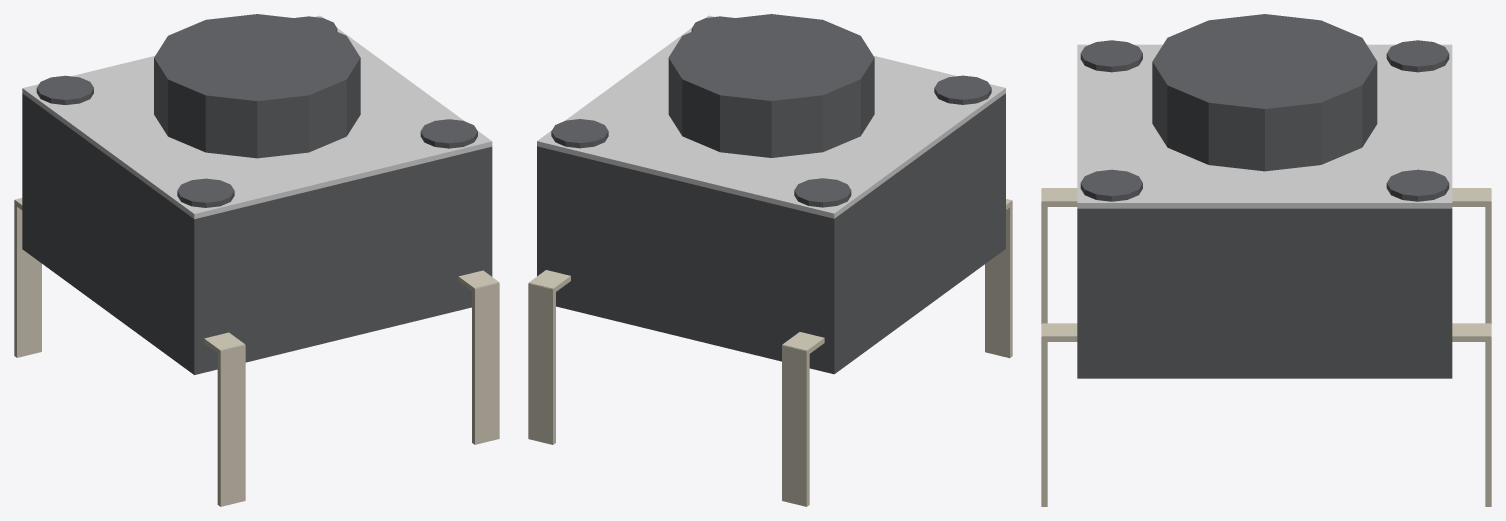
Rendered from Funky Bombul-Hillar.glb.
3 renders of one model, left to right at view 1: azimuth 30°, elevation 25°; view 2: azimuth 150°, elevation 25°; view 3: azimuth 270°, elevation 25°, orthographic. The views are drawn at different scales.
Parts seen in each view (by area): view 1: Mesh_Mesh_head_geo.001_lambert2SG.001; view 2: Mesh_Mesh_head_geo.001_lambert2SG.001; view 3: Mesh_Mesh_head_geo.001_lambert2SG.001.
Part boxes in pixels (x1,y1,x2,y2): Mesh_Mesh_head_geo.001_lambert2SG.001: (14,14,499,506); Mesh_Mesh_head_geo.001_lambert2SG.001: (528,14,1012,506); Mesh_Mesh_head_geo.001_lambert2SG.001: (1041,14,1491,506).
Bounding box in the file's own units: 6 × 6.55 × 7.2.
